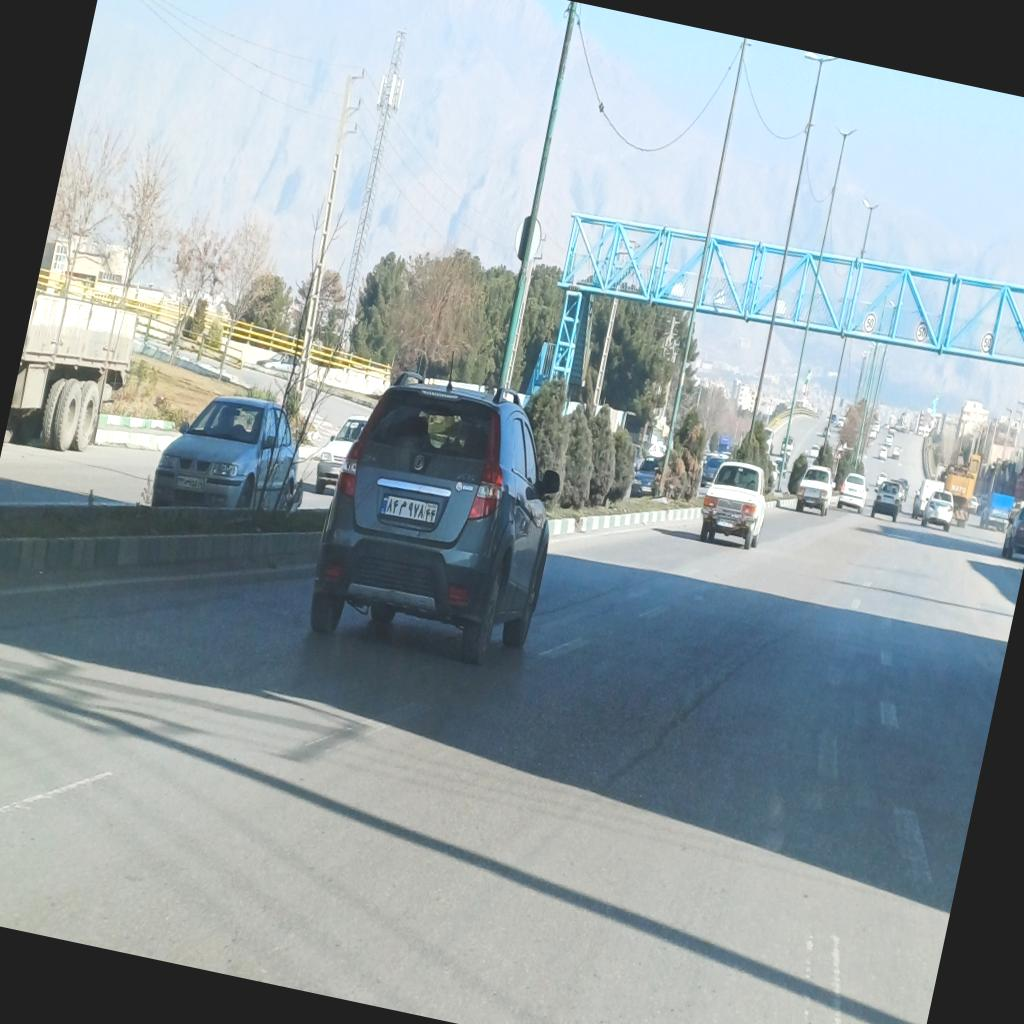Plates: (380, 492, 438, 524)
